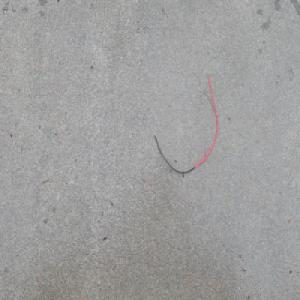Wire: (147, 69, 219, 177)
